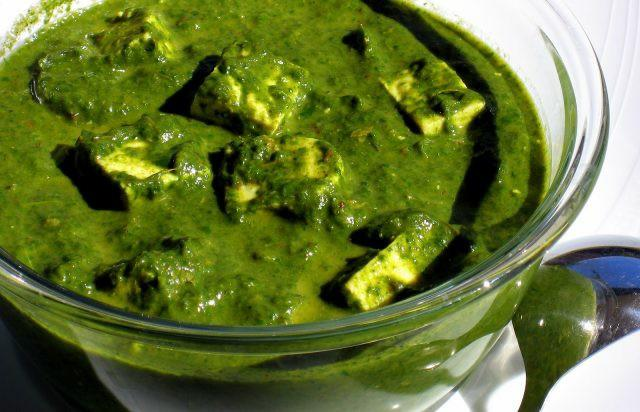PalakPaneer: (0, 0, 548, 333)
